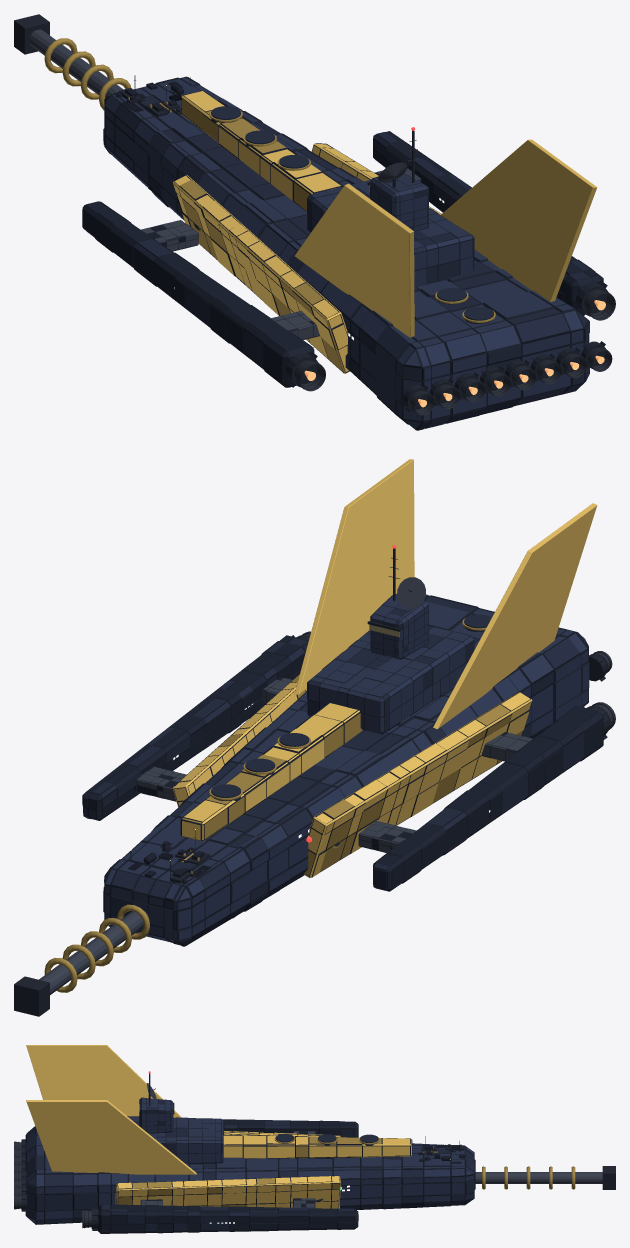
Rendered from sovereign.glb.
The picture shows the model from 3 angles, top to bottom: view 1: azimuth 30°, elevation 25°; view 2: azimuth 150°, elevation 25°; view 3: azimuth 270°, elevation 25°; orthographic projection. The views are drawn at different scales.
Parts seen in each view (by area): view 1: sovereign_mesh; view 2: sovereign_mesh, radar_mesh; view 3: sovereign_mesh.
Boxes of the visible parts, x1,y1,x2,y2 form: sovereign_mesh: (14,14,615,430); sovereign_mesh: (14,459,615,1016); radar_mesh: (397,577,425,608); sovereign_mesh: (14,1045,615,1233).
Size of the model in its own units: 40.97 by 26.63 by 107.
